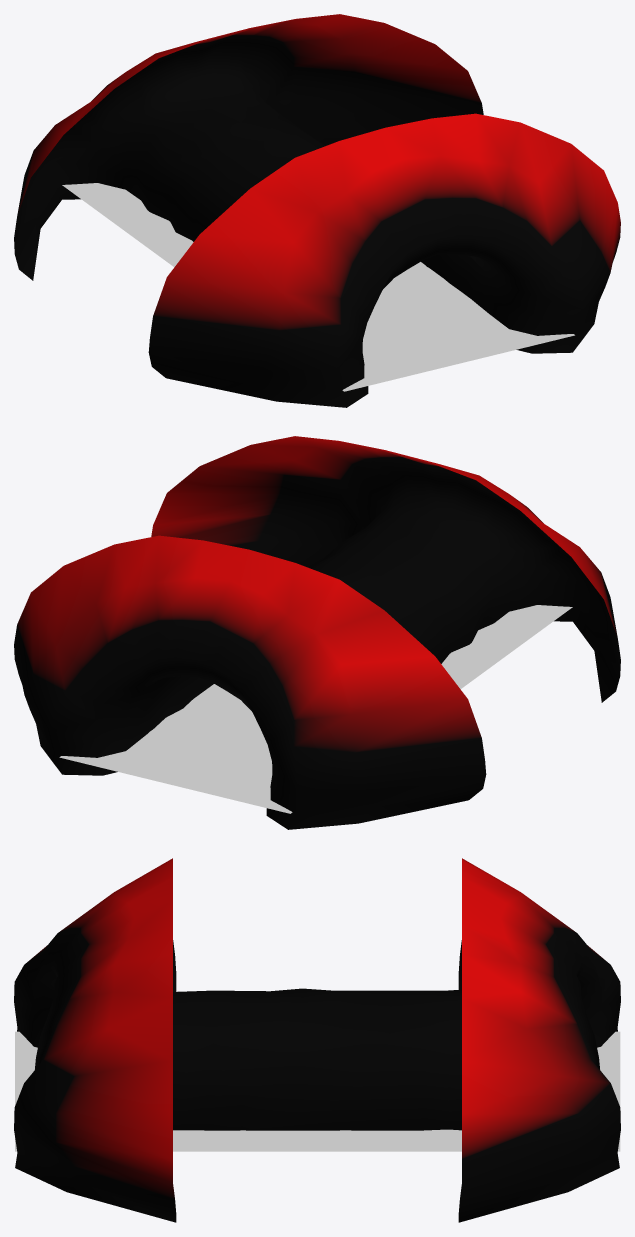
File: rockTunnel.fbx
The picture shows the model from 3 angles, top to bottom: view 1: azimuth 30°, elevation 25°; view 2: azimuth 150°, elevation 25°; view 3: azimuth 270°, elevation 25°; orthographic projection. The views are drawn at different scales.
Visible parts, largest first — view 1: Rock Tunnel, Rock Tunnel Floor; view 2: Rock Tunnel, Rock Tunnel Floor; view 3: Rock Tunnel, Rock Tunnel Floor.
Part boxes in pixels (left/top/right/bottom): Rock Tunnel: left=14, top=14, right=620, bottom=407; Rock Tunnel Floor: left=62, top=183, right=574, bottom=391; Rock Tunnel: left=14, top=436, right=620, bottom=829; Rock Tunnel Floor: left=59, top=605, right=572, bottom=813; Rock Tunnel: left=14, top=858, right=620, bottom=1222; Rock Tunnel Floor: left=15, top=1031, right=620, bottom=1151.
Bounding box in the file's own units: 6981 × 2811 × 7323.
